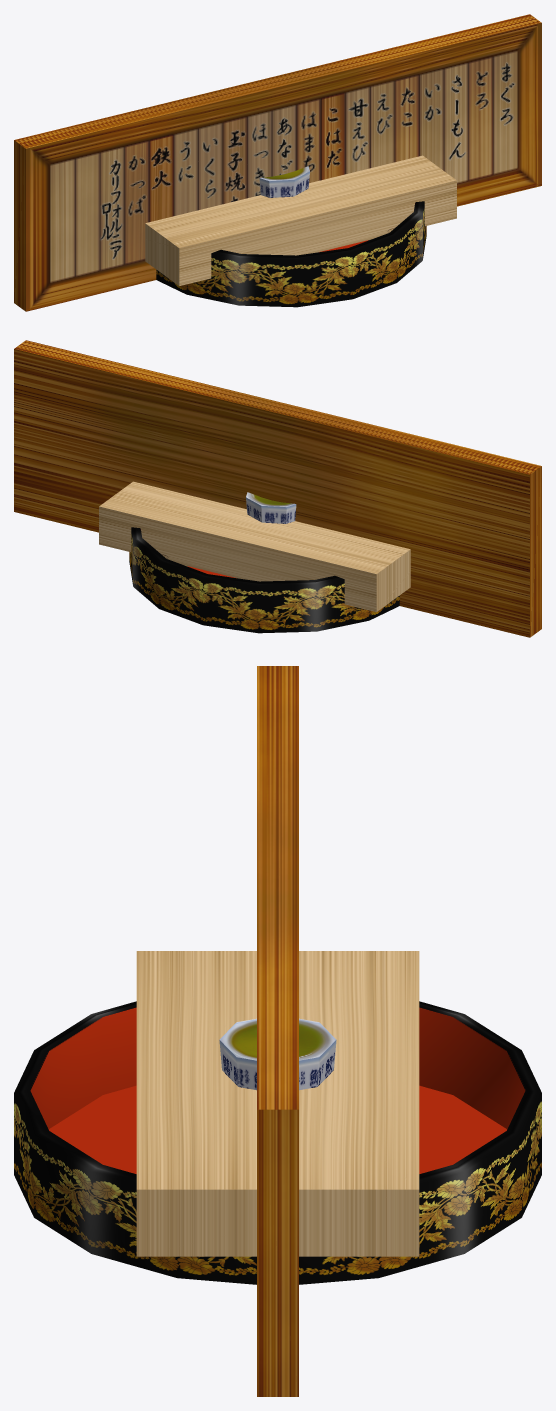
File: sushi_items.fbx
3 views of the same model, one above another, from view 1: azimuth 30°, elevation 25°; view 2: azimuth 150°, elevation 25°; view 3: azimuth 270°, elevation 25° (orthographic). The views are drawn at different scales.
Visible parts, largest first — view 1: oshinagaki_02, sushigeta_02, oke_02, agari_02; view 2: oshinagaki_02, sushigeta_02, oke_02, agari_02; view 3: sushigeta_02, oke_02, oshinagaki_02, agari_02.
Part boxes in pixels (x1,y1,x2,y2): oshinagaki_02: (14, 14, 541, 311); sushigeta_02: (145, 155, 456, 286); oke_02: (156, 201, 426, 307); agari_02: (259, 166, 309, 197); oshinagaki_02: (14, 340, 541, 637); sushigeta_02: (99, 481, 410, 612); oke_02: (129, 527, 399, 633); agari_02: (246, 492, 296, 523); sushigeta_02: (136, 951, 419, 1256); oke_02: (14, 1001, 541, 1284); oshinagaki_02: (257, 666, 298, 1396); agari_02: (219, 1018, 336, 1090).
Bounding box in the file's own units: 99.4 × 30.12 × 50.
